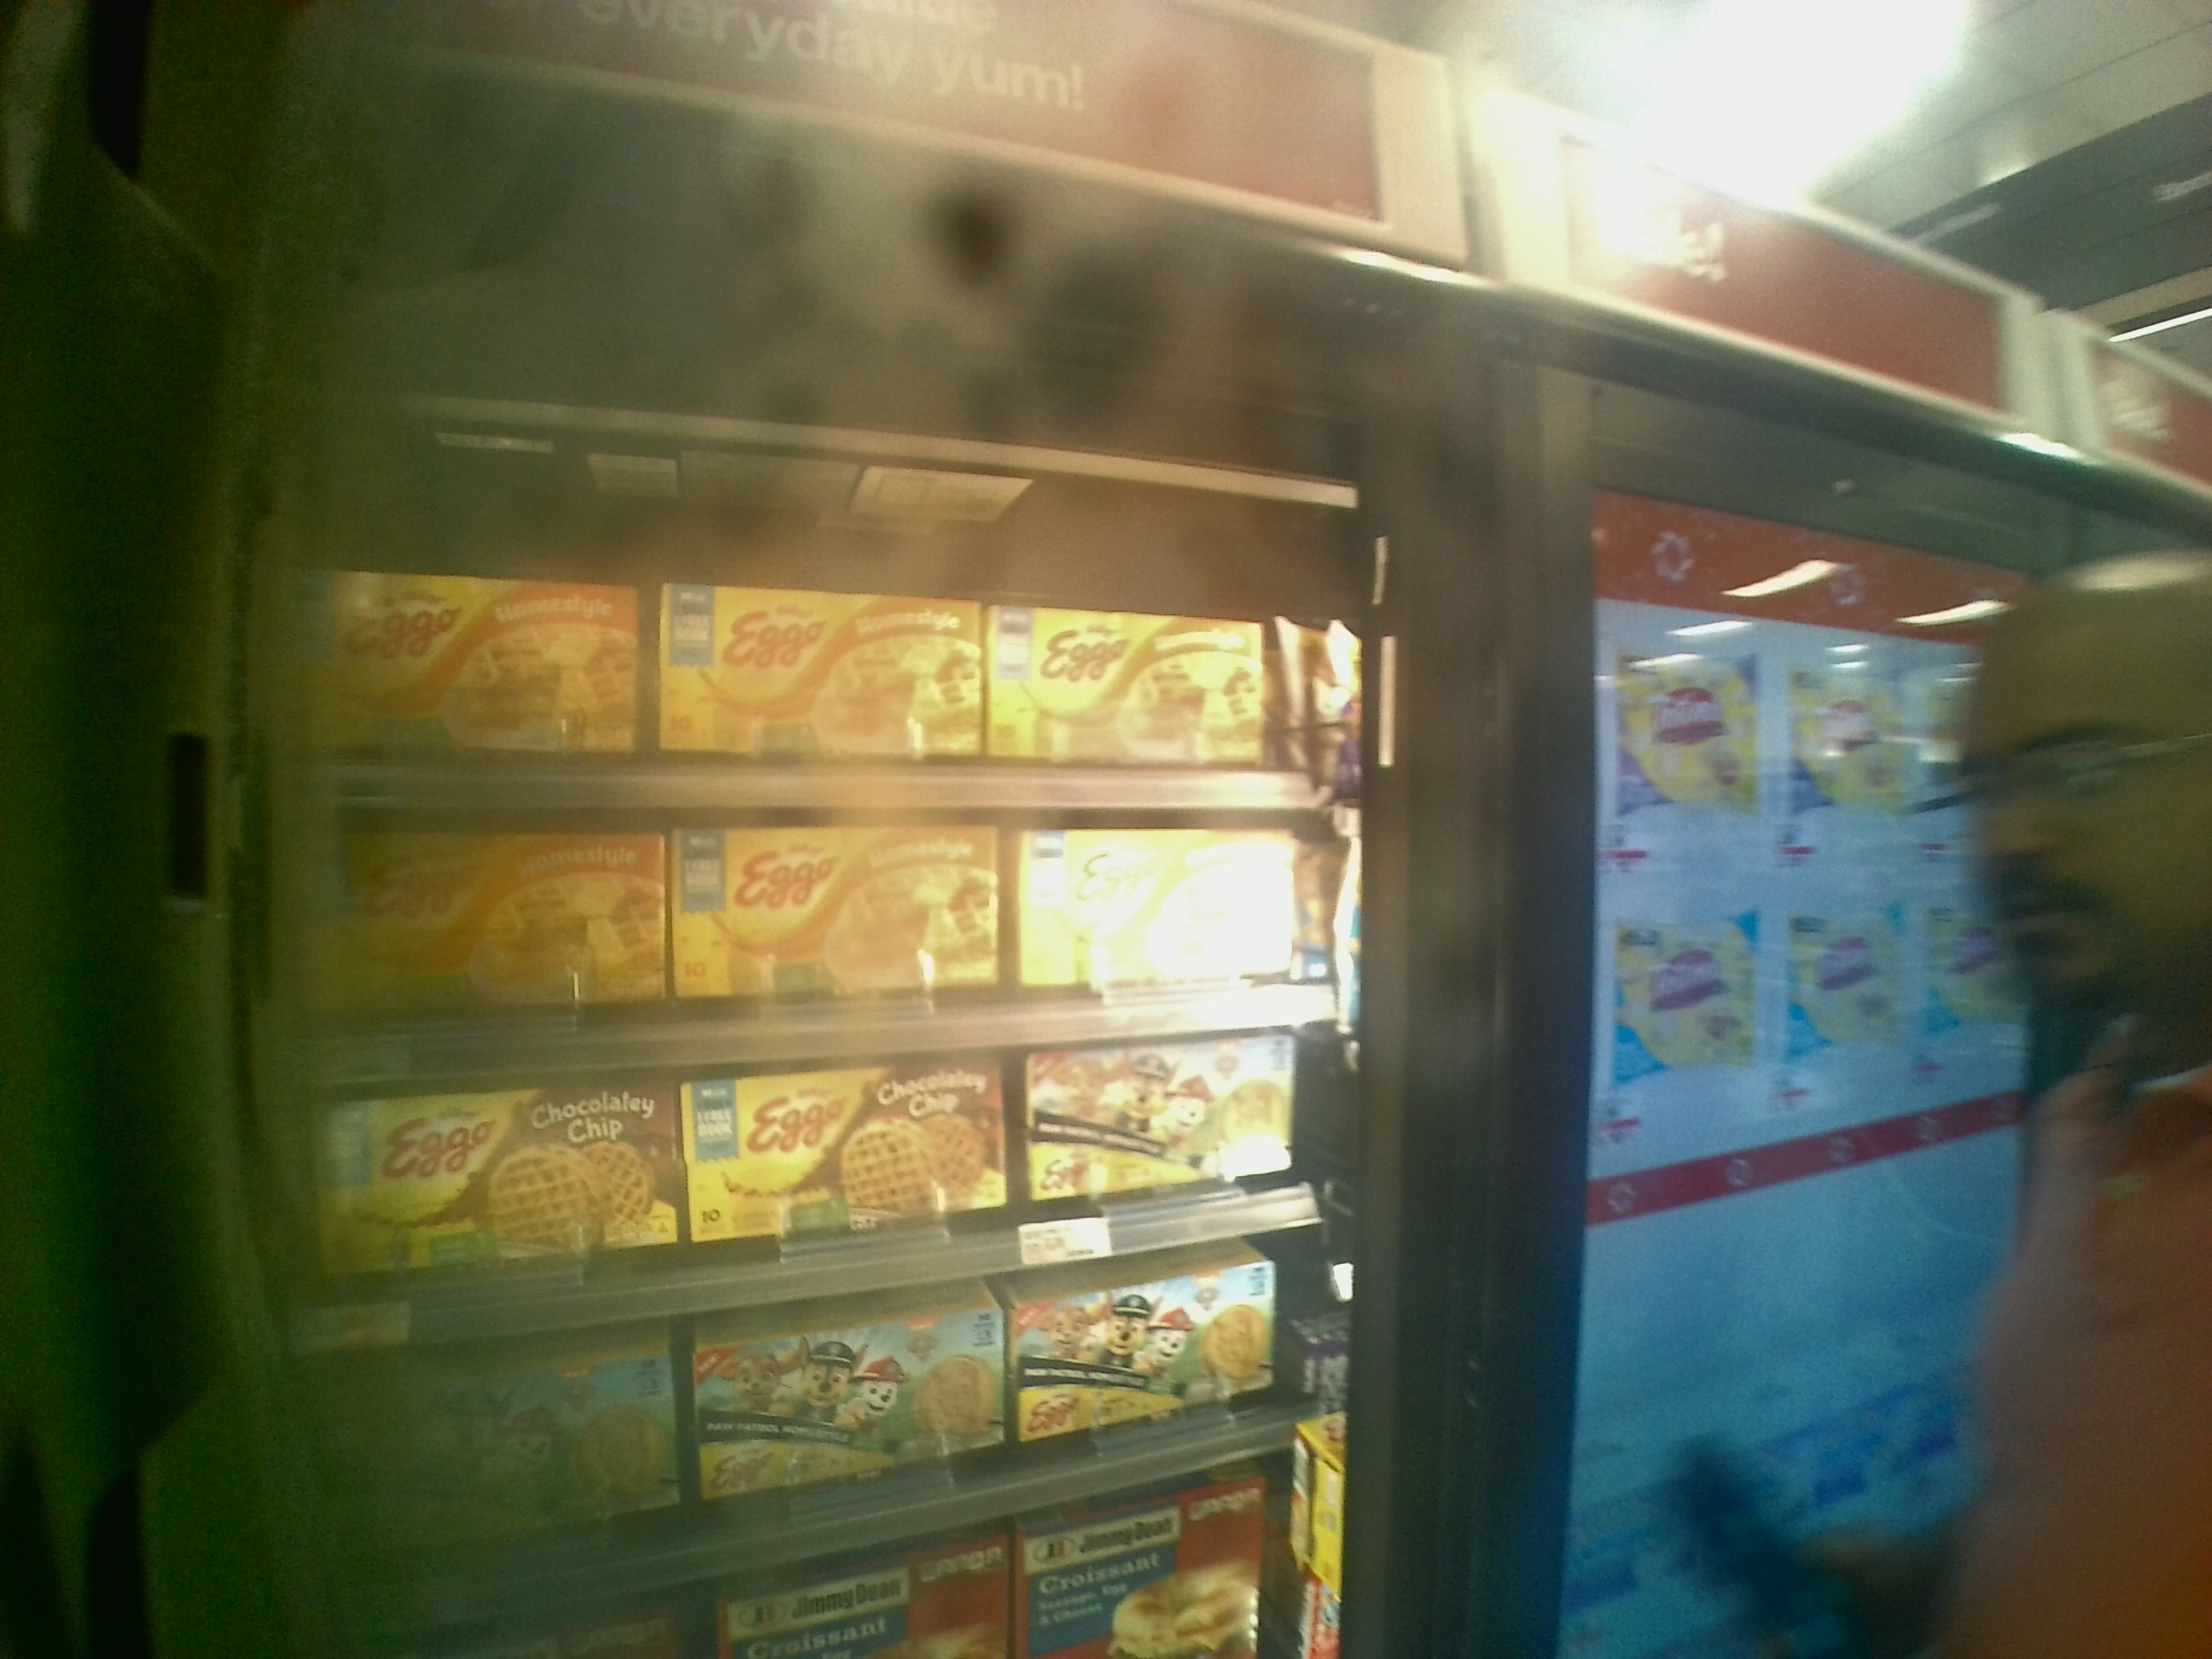shelf: (301, 476, 1406, 812), (308, 1014, 1355, 1361), (307, 802, 1388, 1079)
